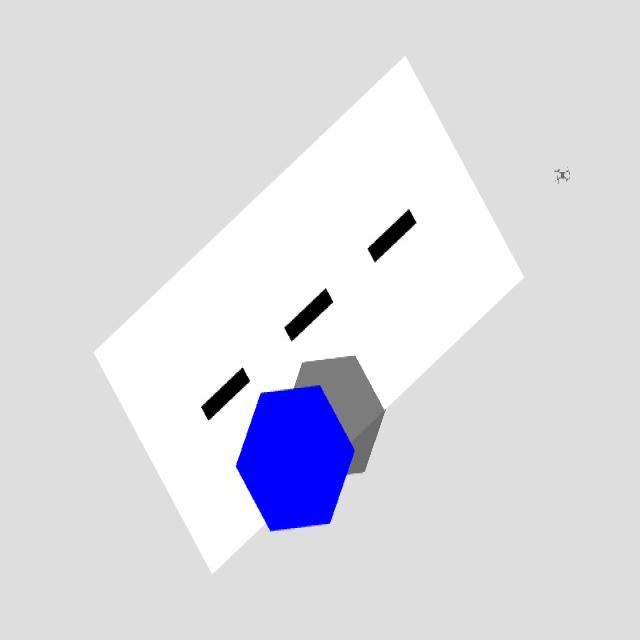blue_hexagon: (234, 382, 356, 532)
